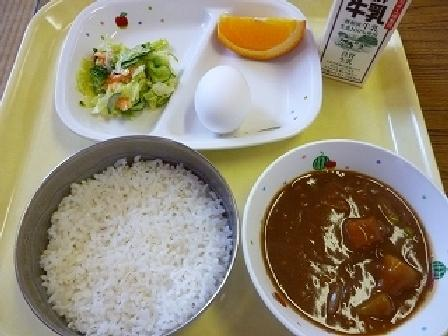Citrus: (213, 8, 309, 66)
Curry: (256, 148, 442, 335)
Milk: (310, 0, 425, 81)
Rice: (25, 140, 234, 335)
Salad: (75, 31, 184, 129)
boiled eggs: (188, 63, 269, 146)
